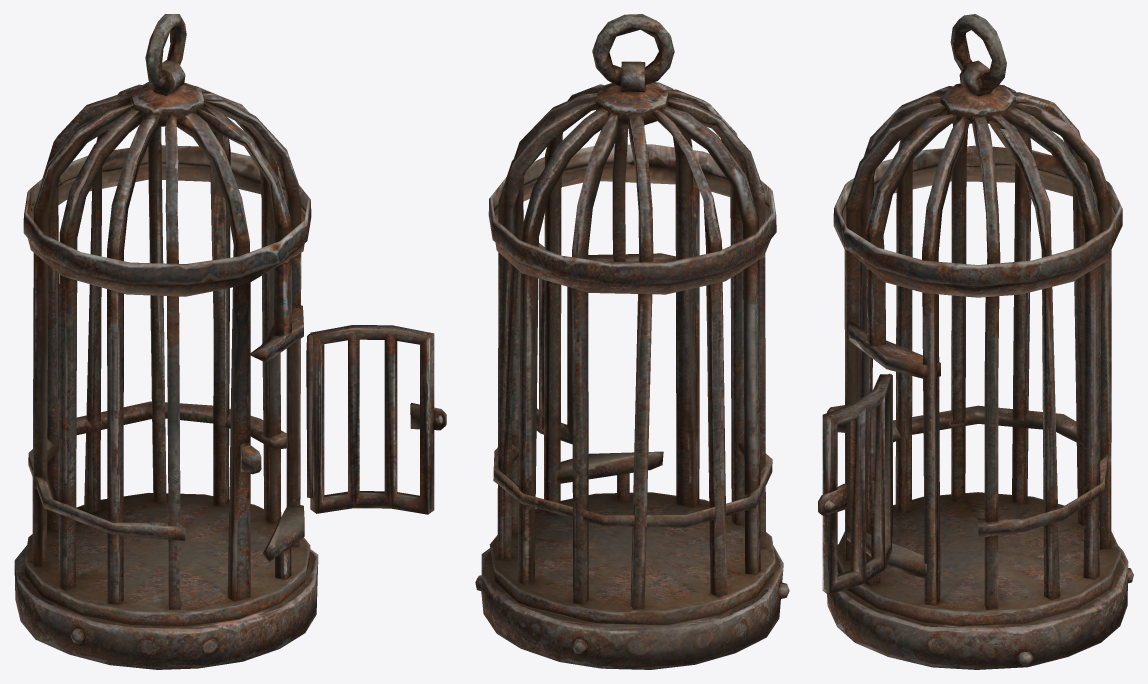
The model's file is gabbia.fbx.
3 views of the same model, side by side, from view 1: azimuth 30°, elevation 25°; view 2: azimuth 150°, elevation 25°; view 3: azimuth 270°, elevation 25° (orthographic).
Parts seen in each view (by area): view 1: tripo_node_306dd672; view 2: tripo_node_306dd672; view 3: tripo_node_306dd672.
Boxes of the visible parts, x1,y1,x2,y2 form: tripo_node_306dd672: (14,14,446,669); tripo_node_306dd672: (475,14,789,669); tripo_node_306dd672: (818,14,1133,669).
Bounding box in the file's own units: 0.5884 × 0.9995 × 0.4849.
1 material, 1 textured.
